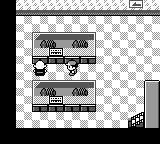leer: (48, 48, 63, 64), (50, 96, 63, 112)
main: (65, 61, 78, 75)
no-caminable: (16, 0, 160, 16), (32, 31, 96, 65), (32, 80, 96, 112), (144, 81, 159, 128)
npc: (33, 61, 47, 76)
puerta: (129, 113, 144, 127)
